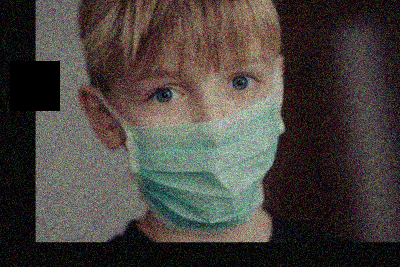with_mask: (122, 53, 281, 222)
